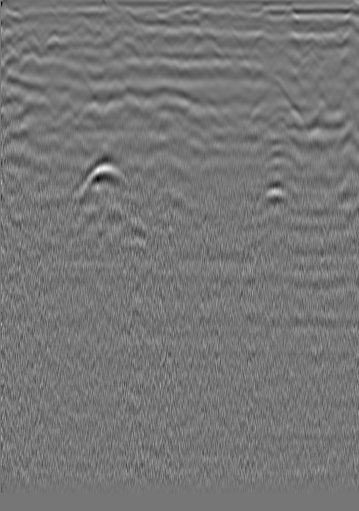가스: (247, 177, 295, 215)
상수: (0, 17, 20, 37)
오수: (322, 28, 342, 48)
우수: (169, 11, 189, 31)
